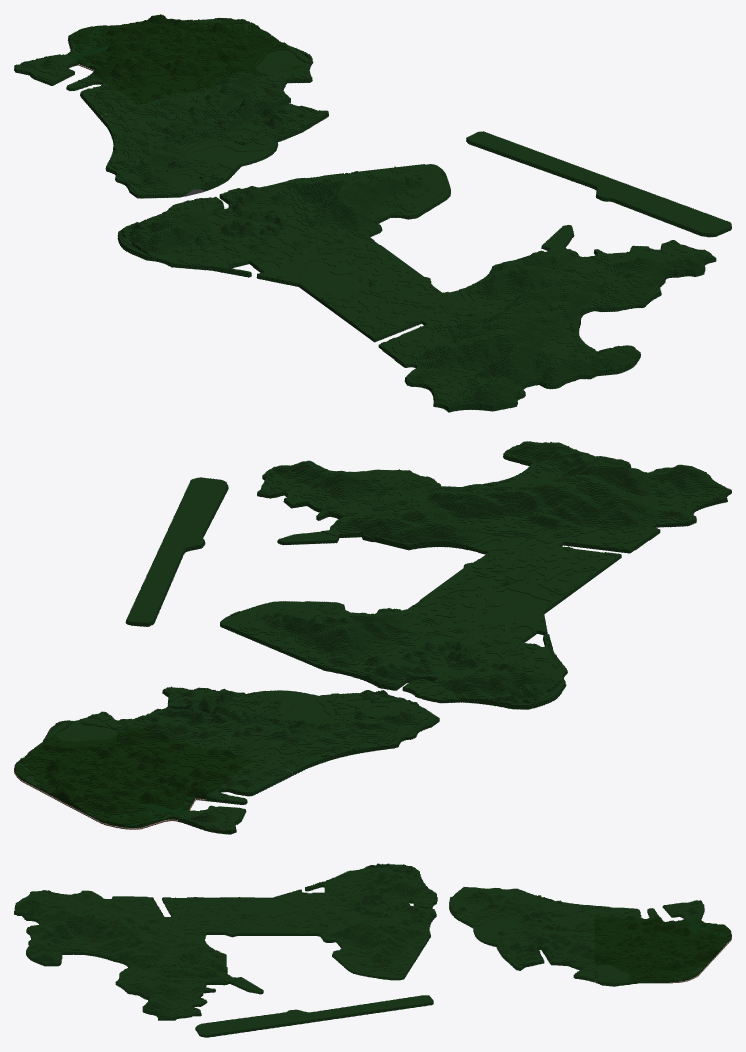
The model's file is macao.glb.
The picture shows the model from 3 angles, top to bottom: view 1: azimuth 30°, elevation 25°; view 2: azimuth 150°, elevation 25°; view 3: azimuth 270°, elevation 25°; orthographic projection. The views are drawn at different scales.
Parts seen in each view (by area): view 1: 22222_02.001, 22222_14, 22222_07, 22222_05, 22222_08, 22222_11, 22222_13, 22222_04, 22222_10, 22222_12, 22222_01.001, 22222_09 (+1 smaller); view 2: 22222_02.001, 22222_07, 22222_11, 22222_08, 22222_14, 22222_05, 22222_13, 22222_04, 22222_12, 22222_10, 22222_01.001, 22222_09 (+1 smaller); view 3: 22222_02.001, 22222_14, 22222_07, 22222_08, 22222_05, 22222_11, 22222_12, 22222_04, 22222_10, 22222_13, 22222_09, 22222_01.001 (+2 smaller).
Boxes of the visible parts, <box> form: 22222_02.001: <box>66,14,310,104</box>; 22222_14: <box>437,278,640,389</box>; 22222_07: <box>117,186,336,277</box>; 22222_05: <box>139,66,328,177</box>; 22222_08: <box>251,164,450,253</box>; 22222_11: <box>338,240,608,324</box>; 22222_13: <box>378,324,525,412</box>; 22222_04: <box>100,105,230,198</box>; 22222_10: <box>256,253,436,342</box>; 22222_12: <box>548,183,731,278</box>; 22222_01.001: <box>14,54,137,118</box>; 22222_09: <box>466,131,622,191</box>; 22222_02.001: <box>14,720,252,829</box>; 22222_07: <box>368,613,567,709</box>; 22222_11: <box>320,489,560,612</box>; 22222_08: <box>220,601,458,681</box>; 22222_14: <box>383,441,648,536</box>; 22222_05: <box>77,686,347,760</box>; 22222_13: <box>561,464,731,553</box>; 22222_04: <box>253,690,439,775</box>; 22222_12: <box>163,464,382,550</box>; 22222_10: <box>459,536,621,635</box>; 22222_01.001: <box>177,760,291,834</box>; 22222_09: <box>125,540,190,626</box>; 22222_02.001: <box>594,916,731,982</box>; 22222_14: <box>26,906,159,980</box>; 22222_07: <box>304,863,449,921</box>; 22222_08: <box>304,916,431,980</box>; 22222_05: <box>460,914,594,982</box>; 22222_11: <box>159,918,304,980</box>; 22222_12: <box>159,976,304,1037</box>; 22222_04: <box>449,887,594,920</box>; 22222_10: <box>159,889,304,919</box>; 22222_13: <box>14,890,159,921</box>; 22222_09: <box>304,995,433,1023</box>; 22222_01.001: <box>594,900,704,919</box>.
Size of the model in its own units: 71.3 by 3.4 by 127.
Materials: 14 (14 with a texture image).
